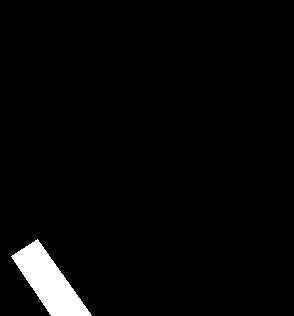parkingspot: (11, 239, 91, 316)
